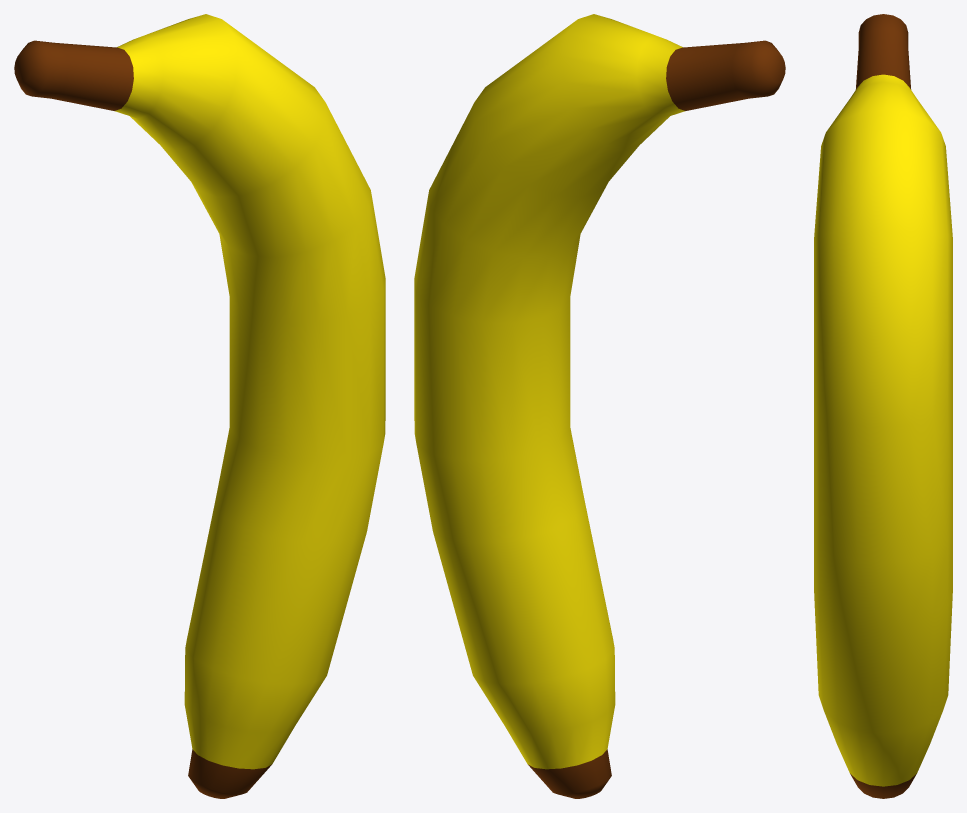
The model's file is Banana.fbx.
3 views of the same model, side by side, from view 1: azimuth 30°, elevation 25°; view 2: azimuth 150°, elevation 25°; view 3: azimuth 270°, elevation 25° (orthographic). The views are drawn at different scales.
Parts seen in each view (by area): view 1: Banana.001; view 2: Banana.001; view 3: Banana.001.
Part boxes in pixels (<box>): Banana.001: <box>14,14,385,798</box>; Banana.001: <box>414,14,785,798</box>; Banana.001: <box>814,14,952,798</box>.
Bounding box in the file's own units: 266 × 568 × 102.
